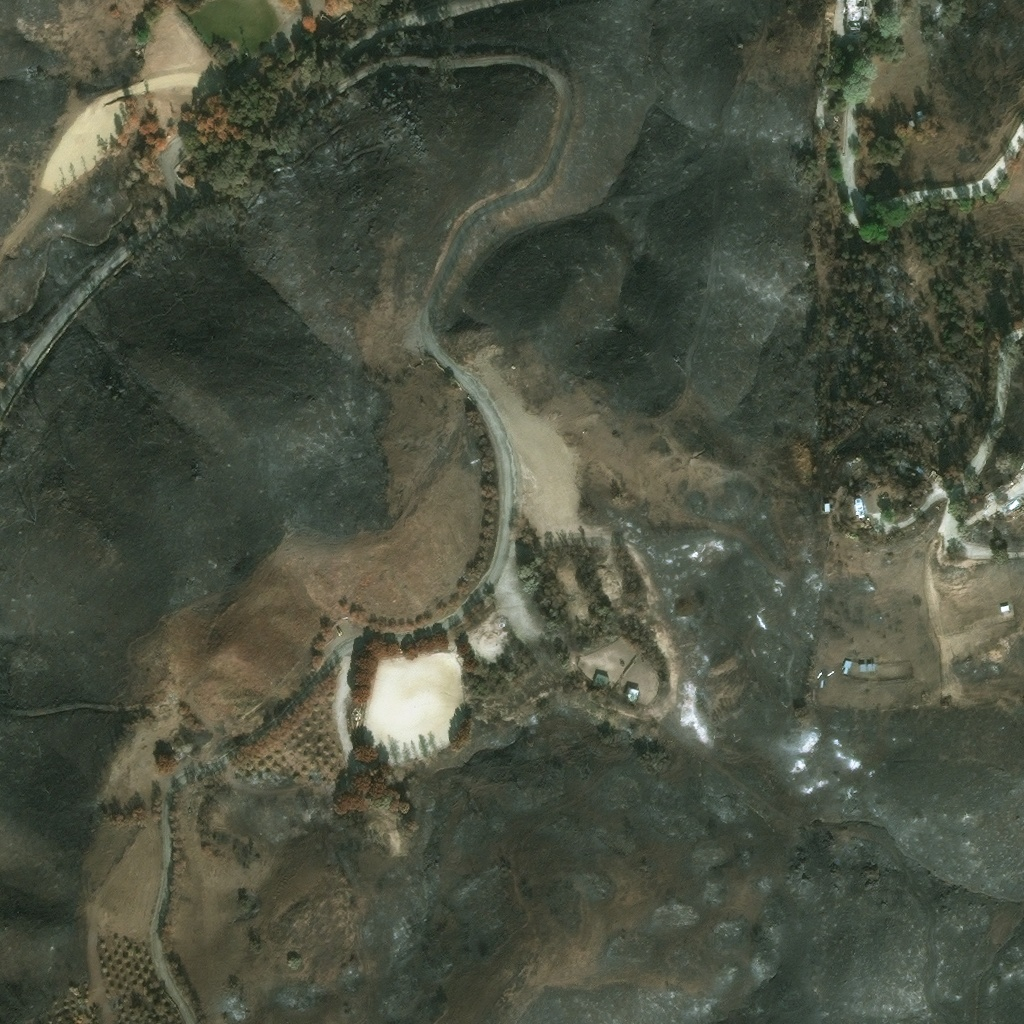0 no-damage: (852, 497, 866, 518), (623, 685, 640, 700), (593, 671, 609, 686), (841, 659, 852, 675), (859, 661, 873, 671), (915, 108, 924, 120), (825, 667, 835, 676), (907, 117, 916, 127), (999, 605, 1010, 613), (823, 502, 830, 512)
3 destroyed: (841, 0, 869, 37), (1000, 495, 1023, 522), (894, 455, 922, 473), (925, 469, 944, 488), (989, 480, 1005, 498), (920, 690, 928, 697)
